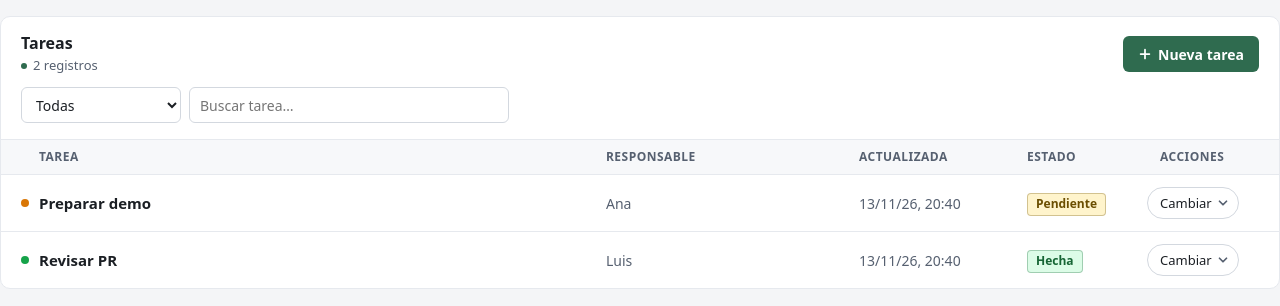
it: obligatorio 2: lista y filtro › muestra la lista, y al elegir un filtro pide ?status=… y muestra las tareas correspondientes
expect the heading "Preparar demo" is shown: met, box [39,193,151,214]
expect the heading "Revisar PR" is shown: met, box [39,250,117,270]
Select "Hecha" in the dropdown named "Filtrar por estado" at (101, 105), box [21,87,181,123]
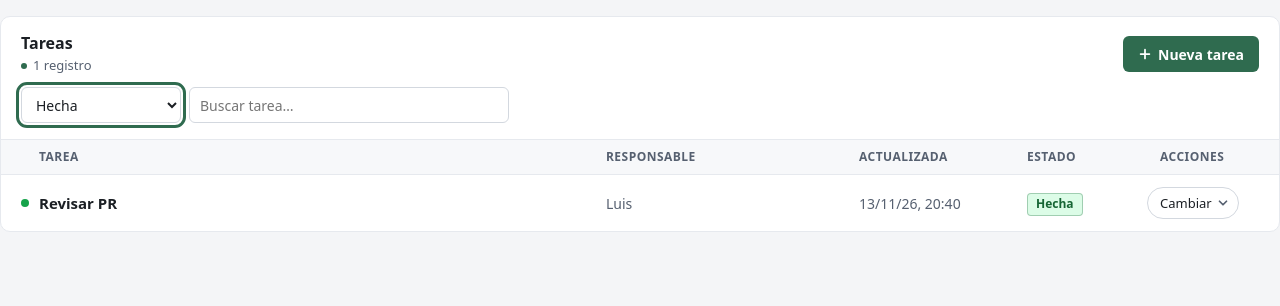
expect the heading "Revisar PR" is shown: met, box [39,193,117,214]
expect the heading "Preparar demo" is gone: met
expect the number of list items is 1: met, box [21,193,1083,216]
